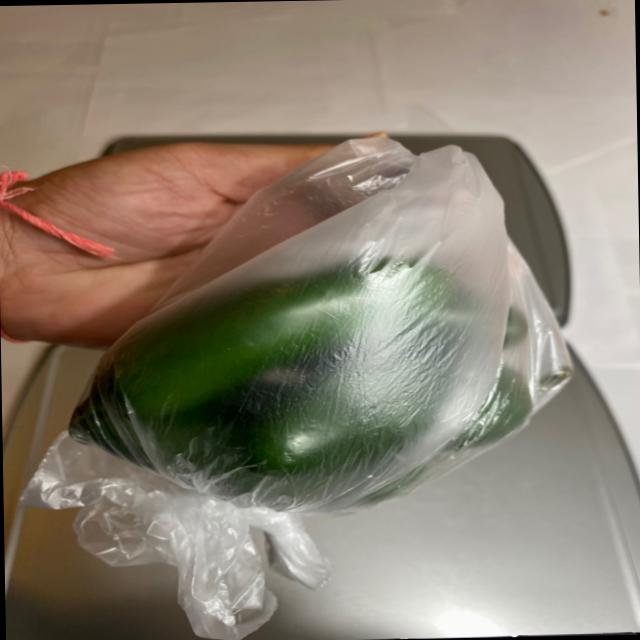chilli: (55, 235, 604, 514)
